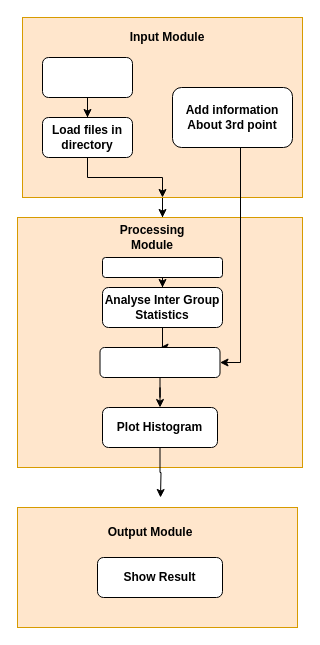
Some shapes in this 320 by 645 pixel diagram are drawn without their labels. Each missing label, with the centre of its shape:
Analyse: [159,362]
Choose Input Directory: [87,77]
Grouping: [162,267]
